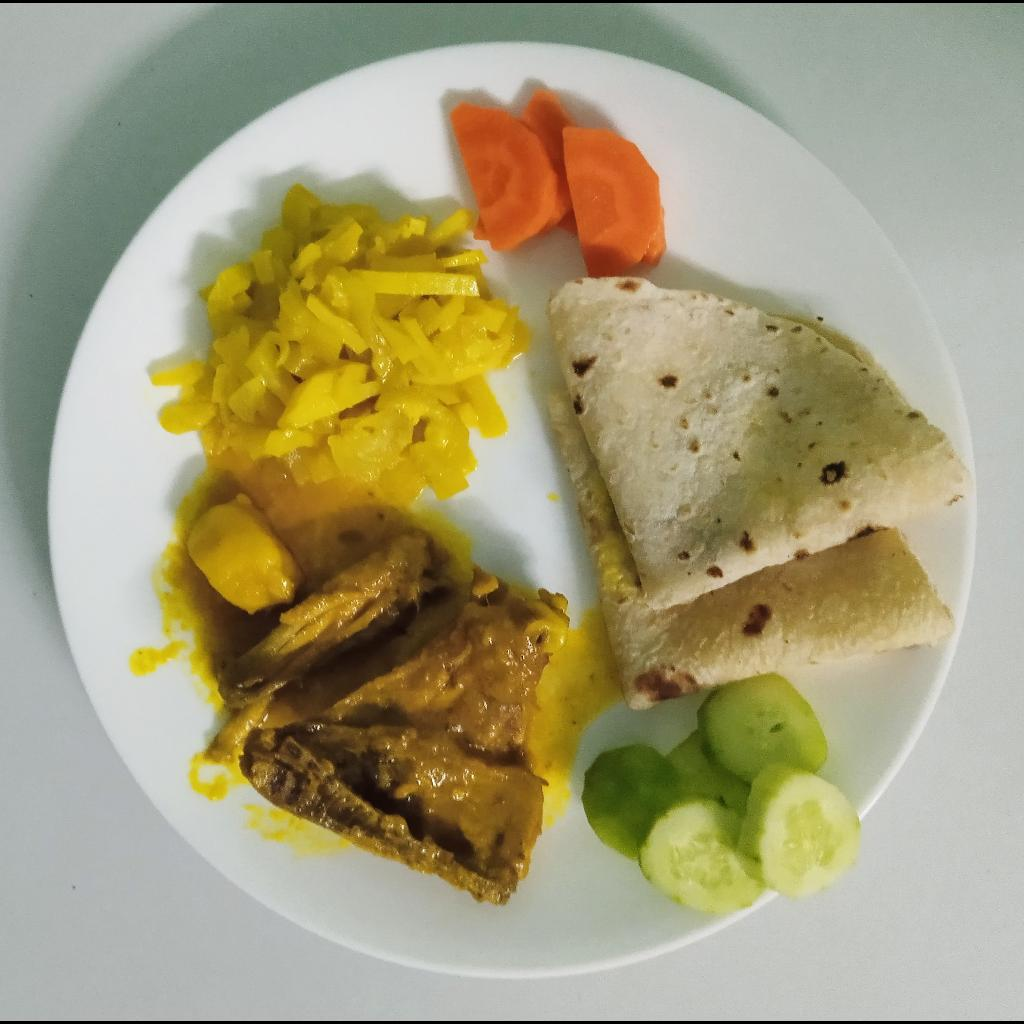carrot: (449, 88, 666, 279)
chicken: (207, 519, 572, 904)
cucumber: (580, 677, 862, 919)
potato: (186, 492, 304, 615)
potol: (152, 181, 536, 506)
ruti: (539, 269, 973, 716)
